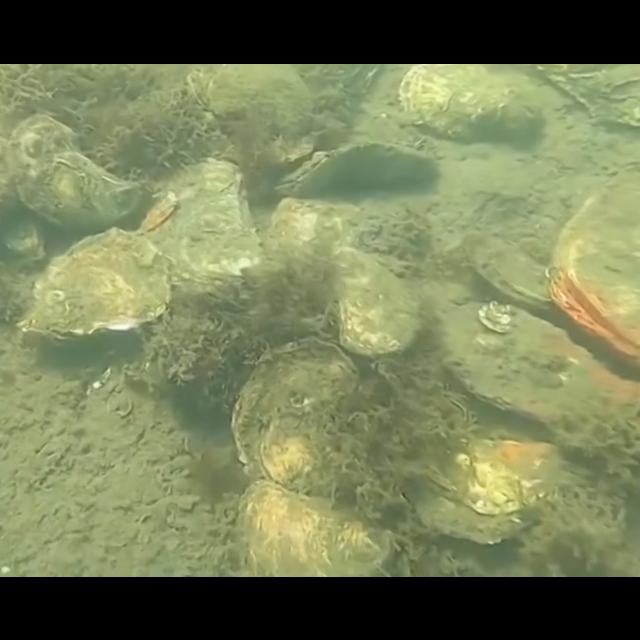Oyster-Closed: (434, 298, 640, 467), (229, 334, 363, 503), (399, 428, 565, 544), (136, 157, 268, 301), (18, 224, 176, 344), (5, 112, 144, 232), (235, 478, 395, 576), (397, 63, 547, 145), (206, 63, 318, 167), (327, 244, 421, 356), (267, 196, 363, 304), (273, 137, 442, 197), (461, 228, 559, 308), (532, 63, 640, 129)
Oyster-Open: (544, 157, 640, 360)
